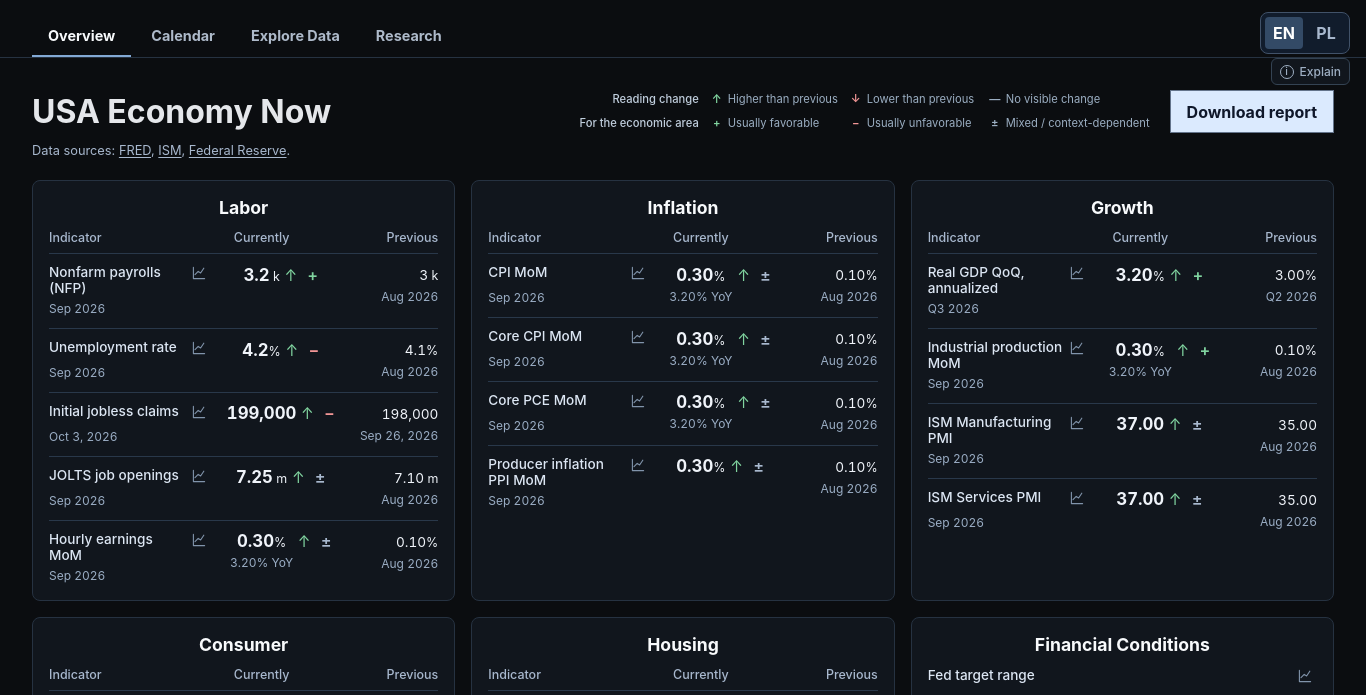
local PMI rows preserve index units, numerical directions and document provenance in Markdown
expect the element showing "37.00" next to "ISM Manufacturing PMI" is shown: met, box [1116,414,1164,434]
expect the element showing "37.00" next to "ISM Manufacturing PMI" does not show "%": met, box [1116,414,1164,434]
Click the button with aria-label "Polski" at [1326, 33], box [1307,17,1345,49]
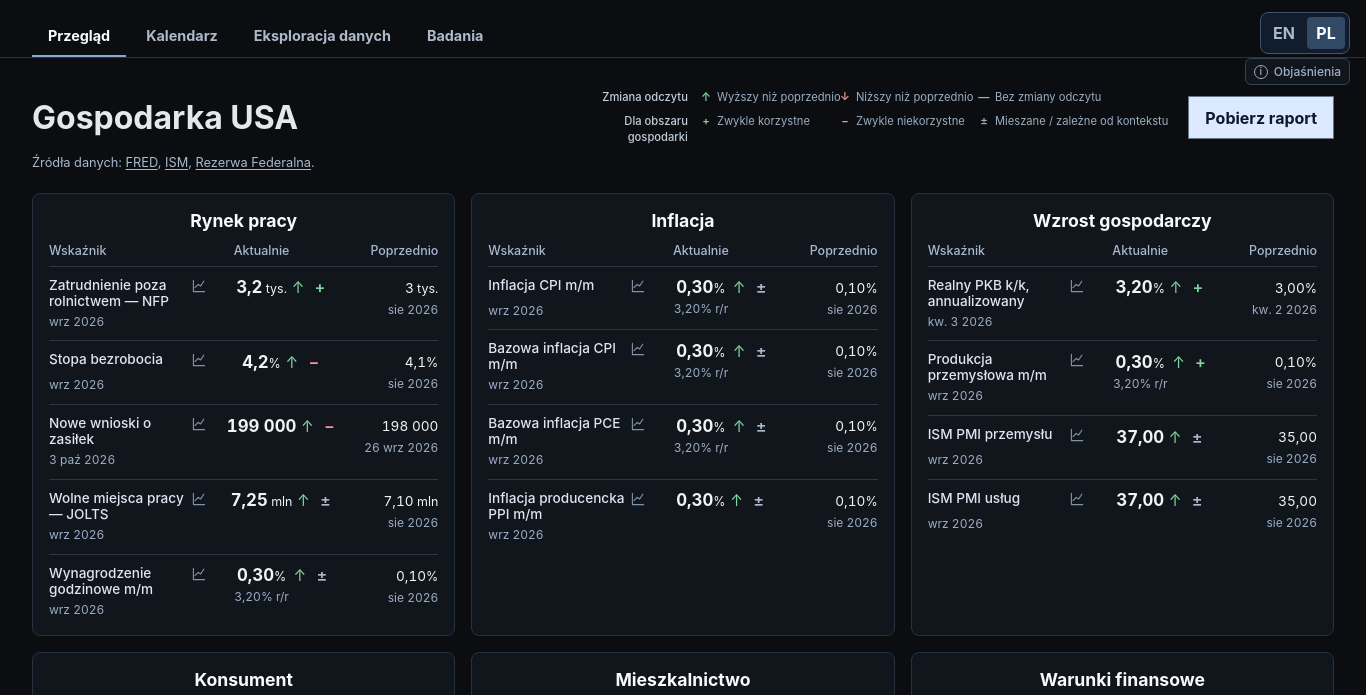
expect the row "ISM PMI przemysłu" is shown: met, box [928,416,1317,480]
